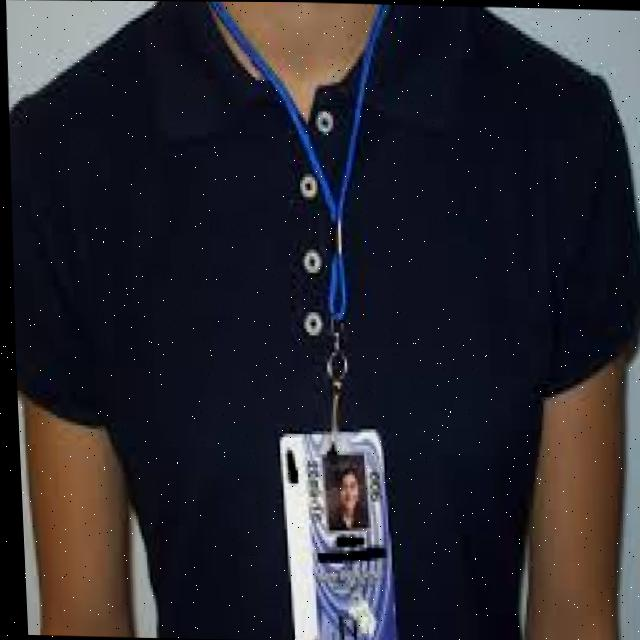id_card: (227, 42, 406, 630)
